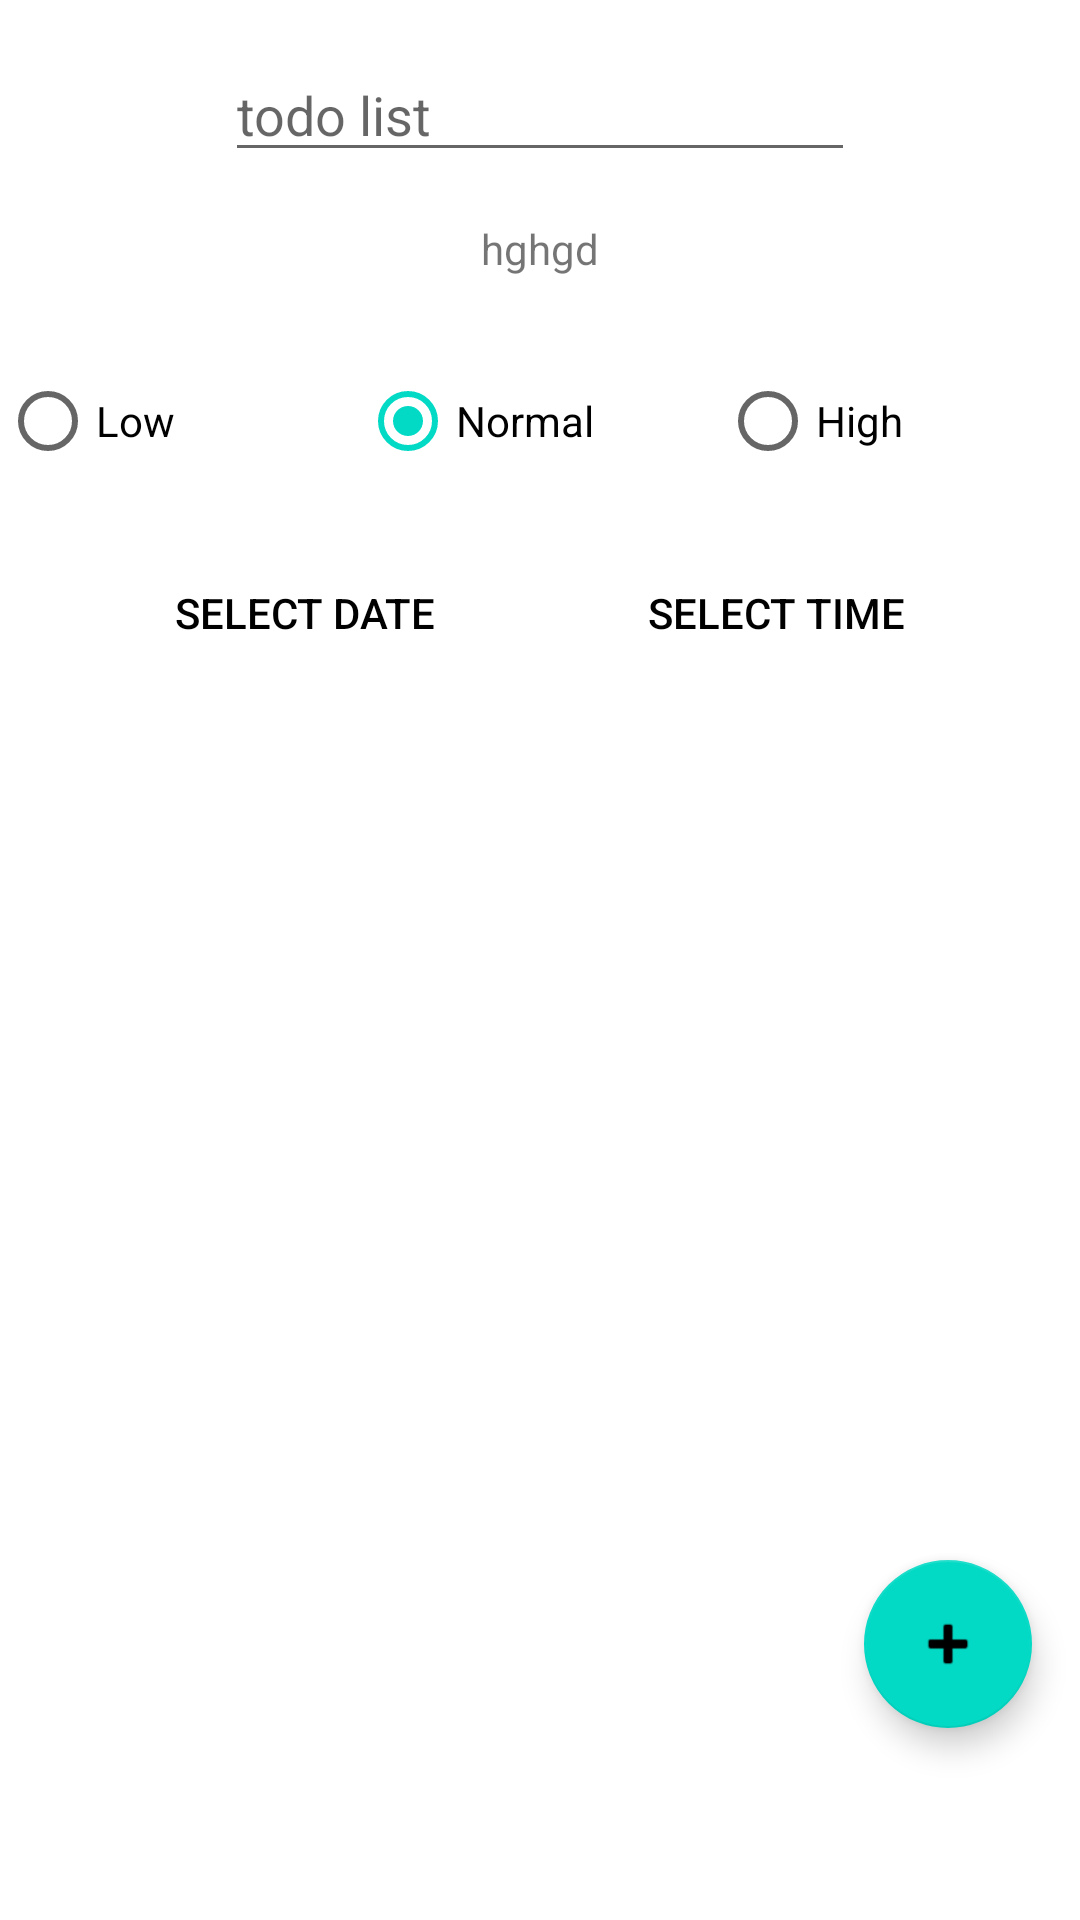

Screen size 1080px x 1920px. Icon name, then its center in pixels as (x=x, y=y):
add: (x=948, y=1644)
